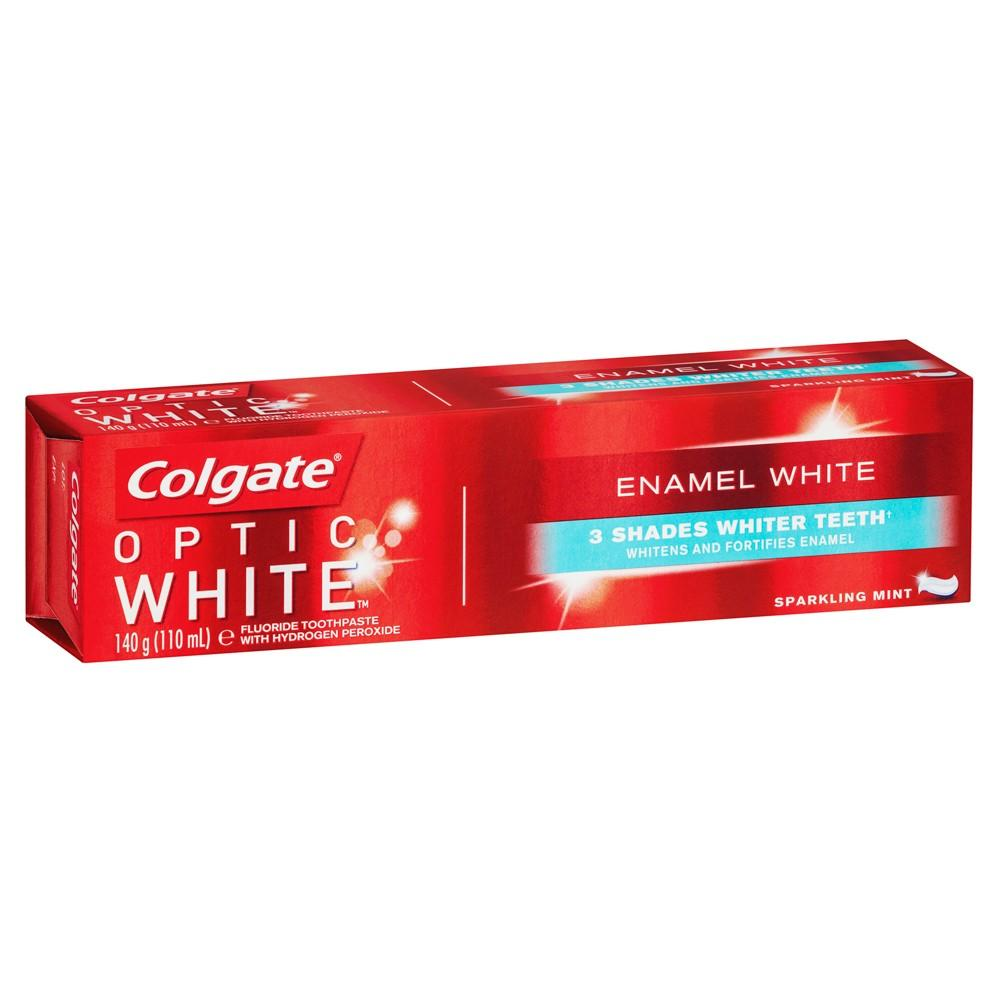toothpaste: (24, 303, 1000, 680)
